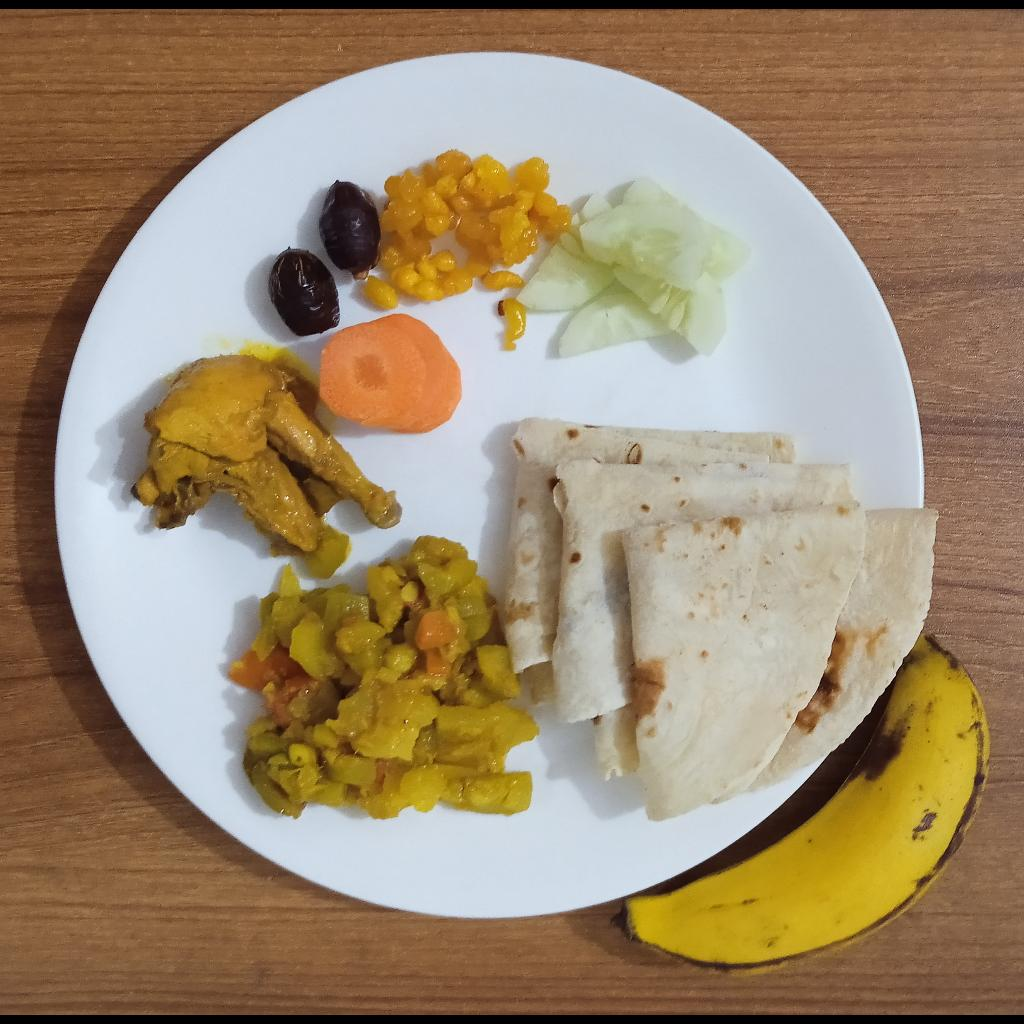banana: (610, 626, 991, 978)
burinda: (362, 150, 570, 351)
carrot: (318, 313, 462, 435)
chicken: (131, 354, 400, 557)
cucumber: (516, 174, 755, 359)
dates: (269, 249, 340, 337), (319, 182, 381, 280)
khichuri: (229, 536, 541, 821)
ruti: (504, 417, 937, 824)
